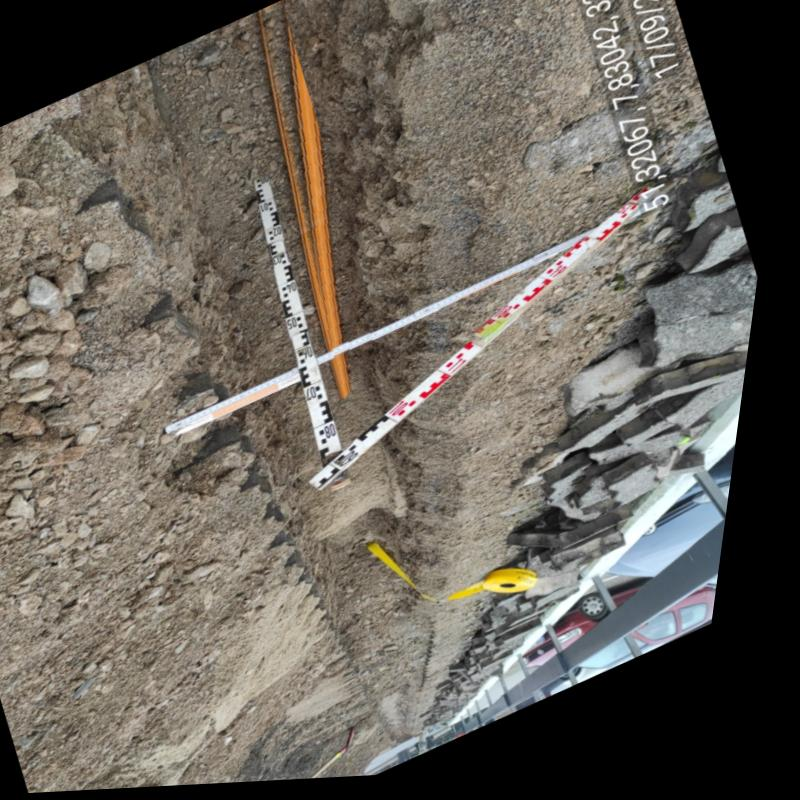Orang-Speednetrohrchen: (281, 3, 361, 397)
